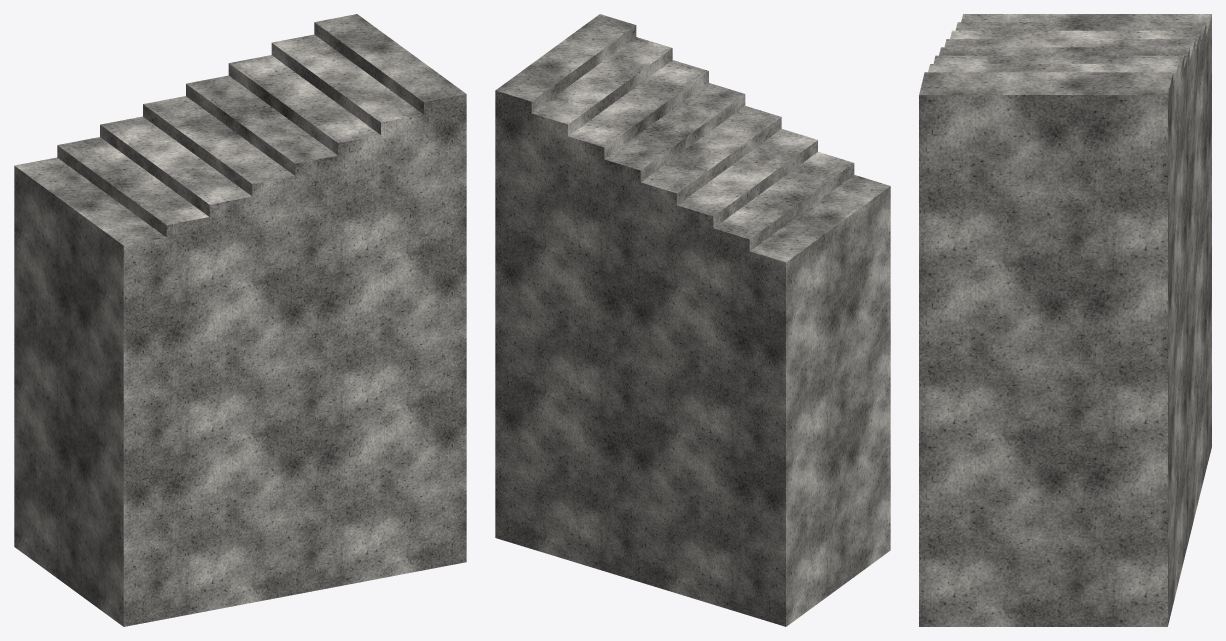
The model's file is quay_stair.fbx.
The picture shows the model from 3 angles, left to right: view 1: azimuth 30°, elevation 25°; view 2: azimuth 150°, elevation 25°; view 3: azimuth 270°, elevation 25°; orthographic projection. The views are drawn at different scales.
Visible parts, largest first — view 1: quay_stair; view 2: quay_stair; view 3: quay_stair.
Part boxes in pixels (x1,y1,x2,y2): quay_stair: [14, 14, 466, 626]; quay_stair: [495, 14, 890, 626]; quay_stair: [919, 14, 1211, 626].
Size of the model in its own units: 222 by 307 by 153.
